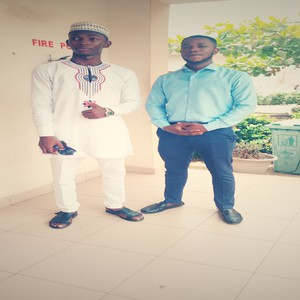Fulokoja_male_student: (40, 25, 139, 224), (160, 39, 243, 222)
